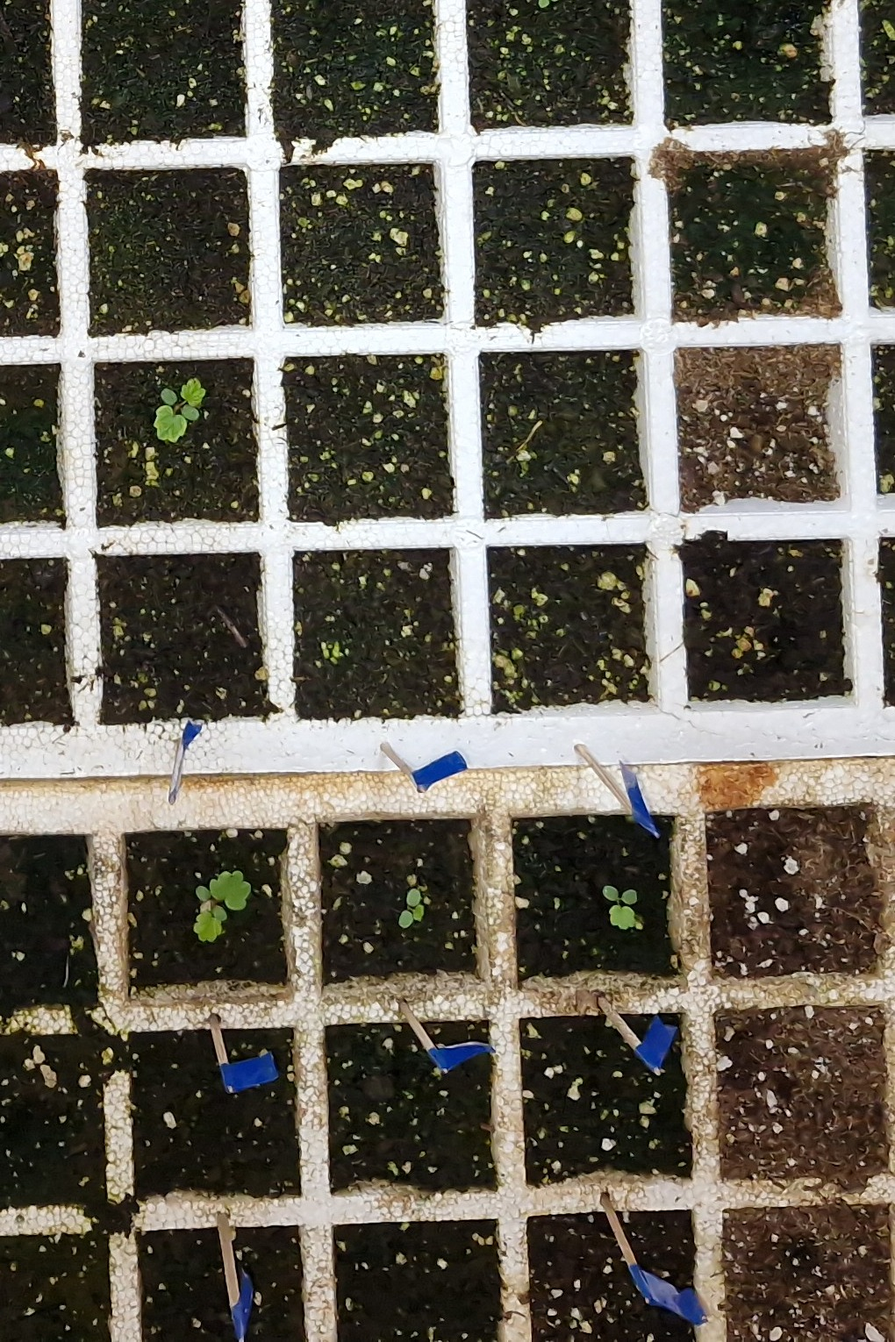Folha: (154, 405, 186, 443), (181, 379, 206, 406), (182, 405, 199, 420), (162, 389, 176, 404)
Germinacao: (154, 380, 205, 444)
